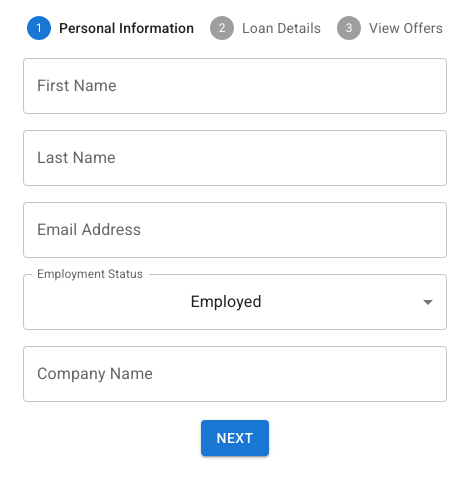
Test: Loan Application › User Details Validation › Employment Status › should not show company name when employment status is 'Self Employed'
The width and height of the screenshot is (471, 484).
Click the element with test id "employment-status-select" at point(235, 302), box [23,274,447,330]
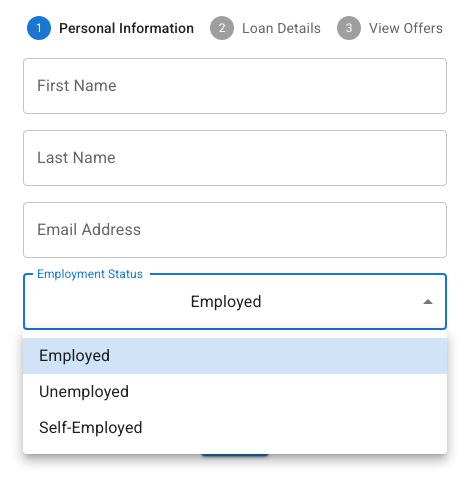
Click the option with test id "employment-status-self-employed" at point(91, 428), box [39,418,143,437]
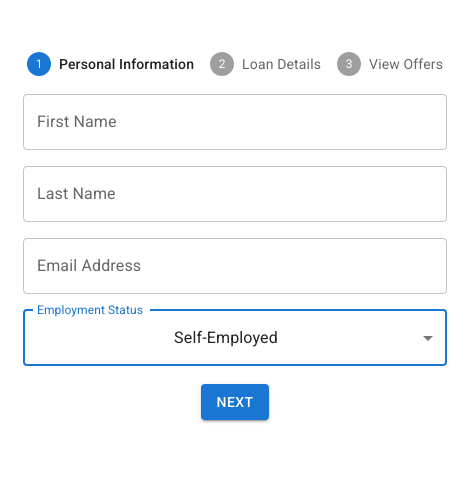
Result: the field named "companyName" is gone
